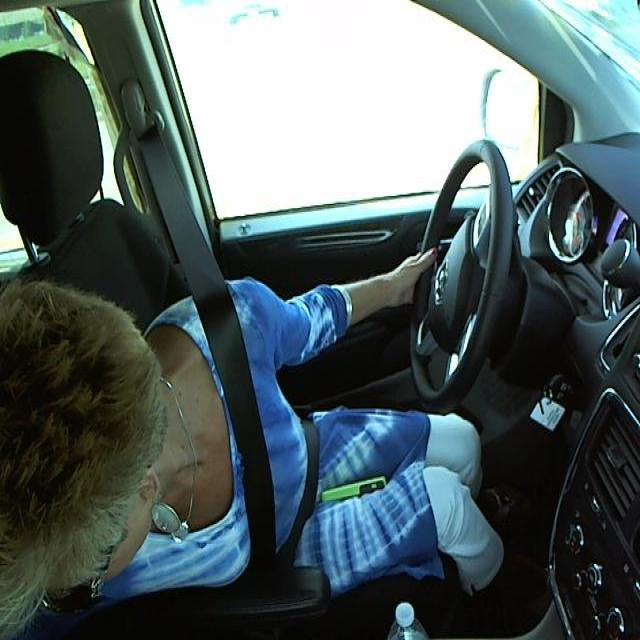seatbelt: (180, 287, 359, 585)
